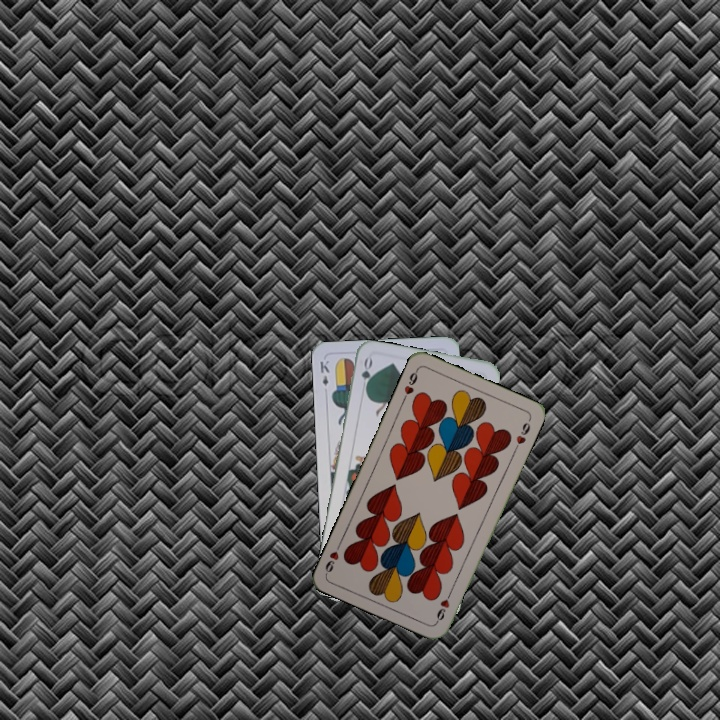EK: (316, 356, 332, 388)
GO: (357, 354, 375, 395)
H9: (432, 586, 455, 625), (399, 365, 421, 404)
